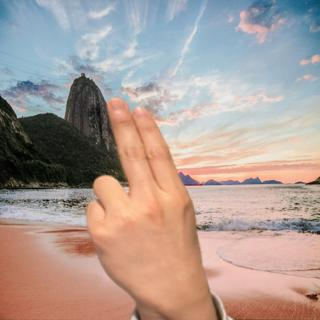DHAVE: (77, 93, 210, 303)
